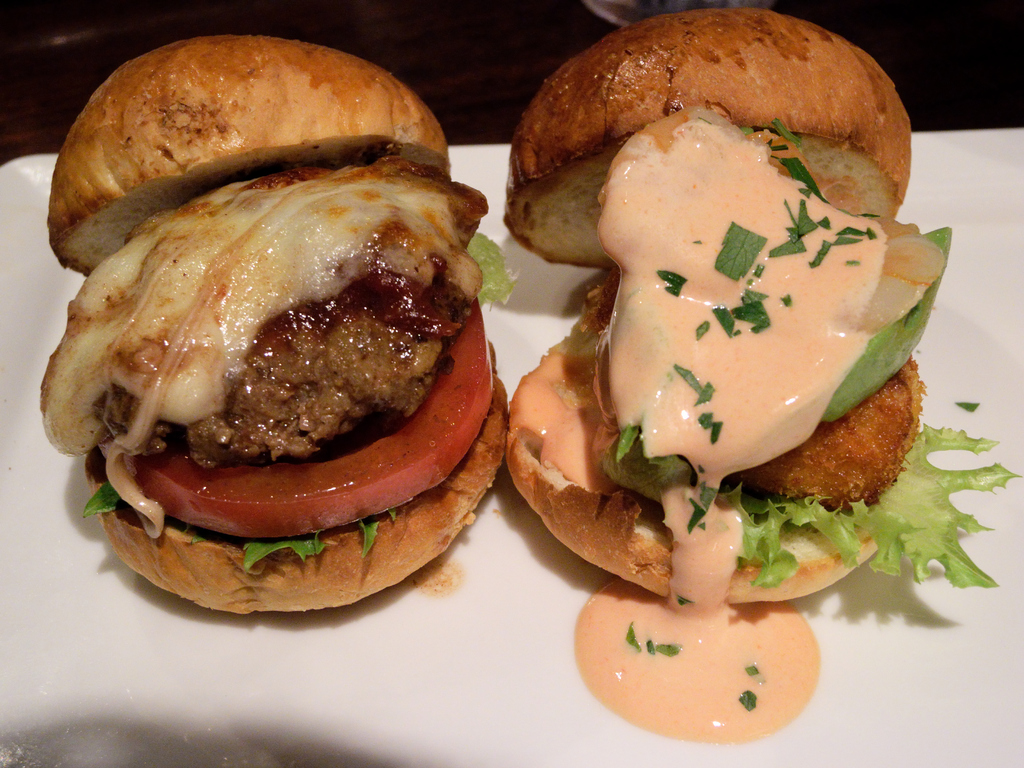Hamburger: (507, 6, 1022, 609), (35, 37, 508, 617)
